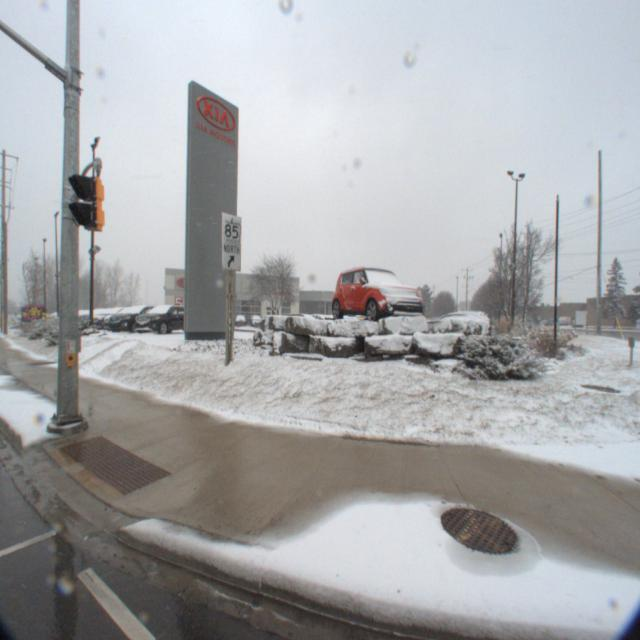Car: (325, 258, 433, 328), (404, 311, 492, 346), (124, 302, 196, 338), (97, 302, 171, 336), (415, 310, 487, 343), (81, 306, 145, 332), (277, 313, 329, 337), (300, 312, 342, 334)
